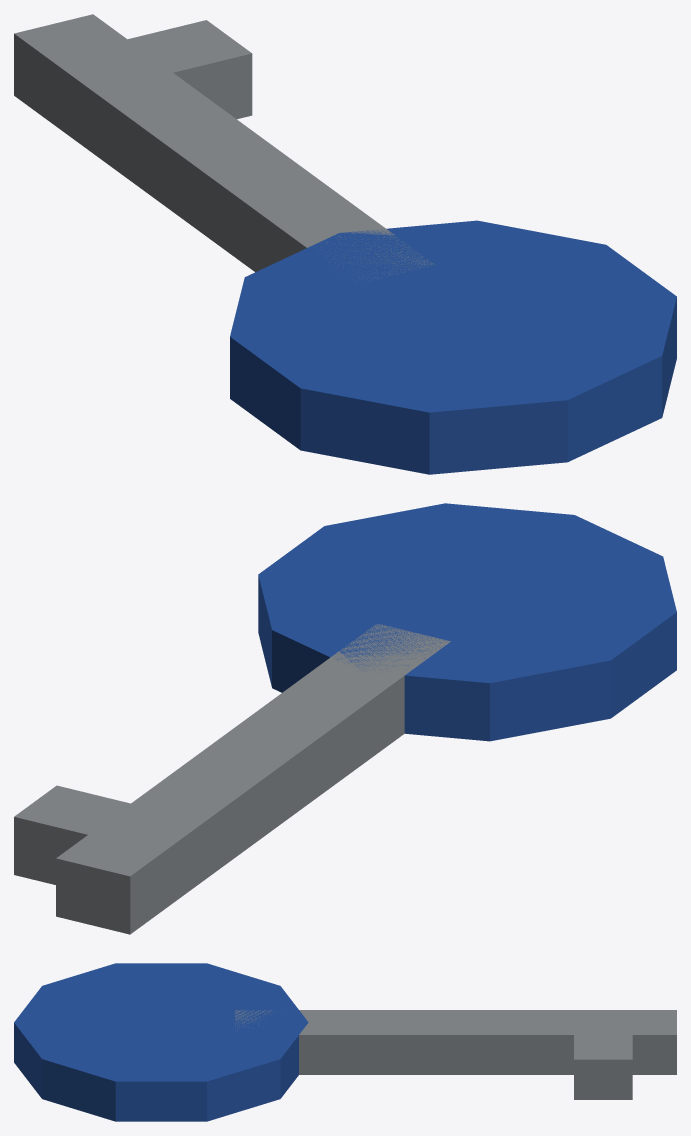
Rendered from security_key.glb.
The picture shows the model from 3 angles, top to bottom: view 1: azimuth 30°, elevation 25°; view 2: azimuth 150°, elevation 25°; view 3: azimuth 270°, elevation 25°; orthographic projection. The views are drawn at different scales.
Parts seen in each view (by area): view 1: security_key; view 2: security_key; view 3: security_key.
Boxes of the visible parts, left/top/right/bottom form: security_key: left=14, top=14, right=676, bottom=474; security_key: left=14, top=503, right=676, bottom=934; security_key: left=14, top=963, right=676, bottom=1121.
Size of the model in its own units: 0.038 by 0.006 by 0.09.
